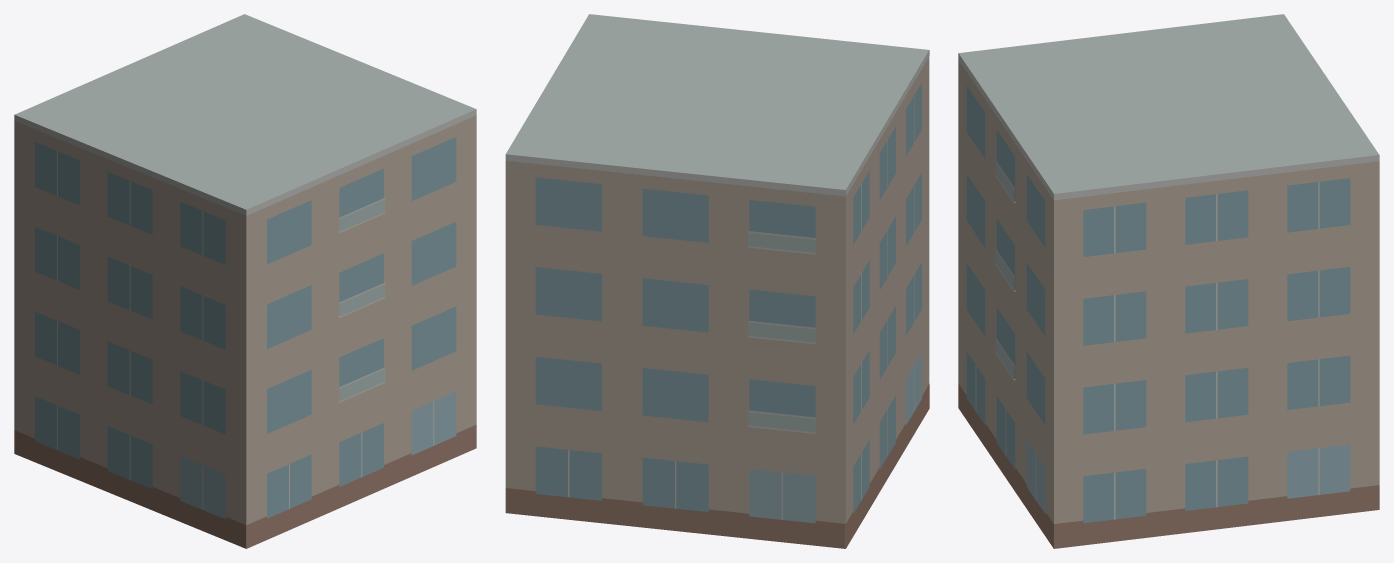
Rendered from survey-upis-32720566.glb.
3 renders of one model, left to right at view 1: azimuth 30°, elevation 25°; view 2: azimuth 150°, elevation 25°; view 3: azimuth 270°, elevation 25°, orthographic. The views are drawn at different scales.
Visible parts, largest first — view 1: survey-upis-32720566.tmp; view 2: survey-upis-32720566.tmp; view 3: survey-upis-32720566.tmp.
Part boxes in pixels (x1,y1,x2,y2): survey-upis-32720566.tmp: [14, 14, 476, 548]; survey-upis-32720566.tmp: [505, 14, 929, 548]; survey-upis-32720566.tmp: [958, 14, 1379, 548].
Bounding box in the file's own units: 14.8 × 13.6 × 14.63.
